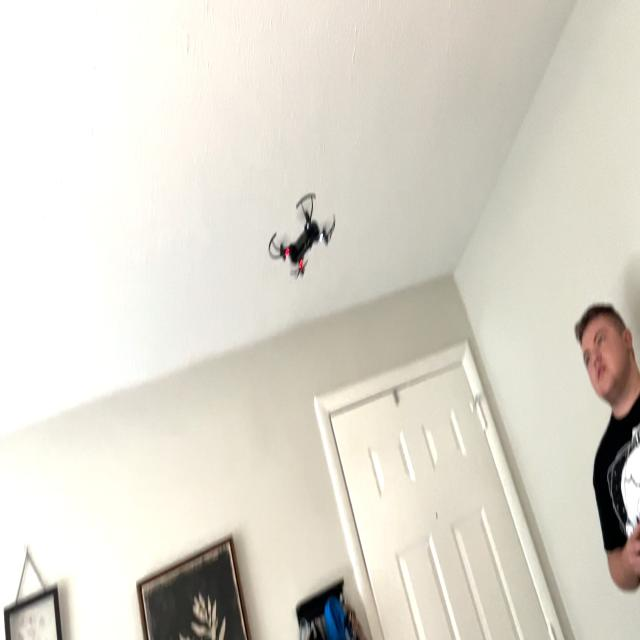drone: (265, 162, 347, 301)
